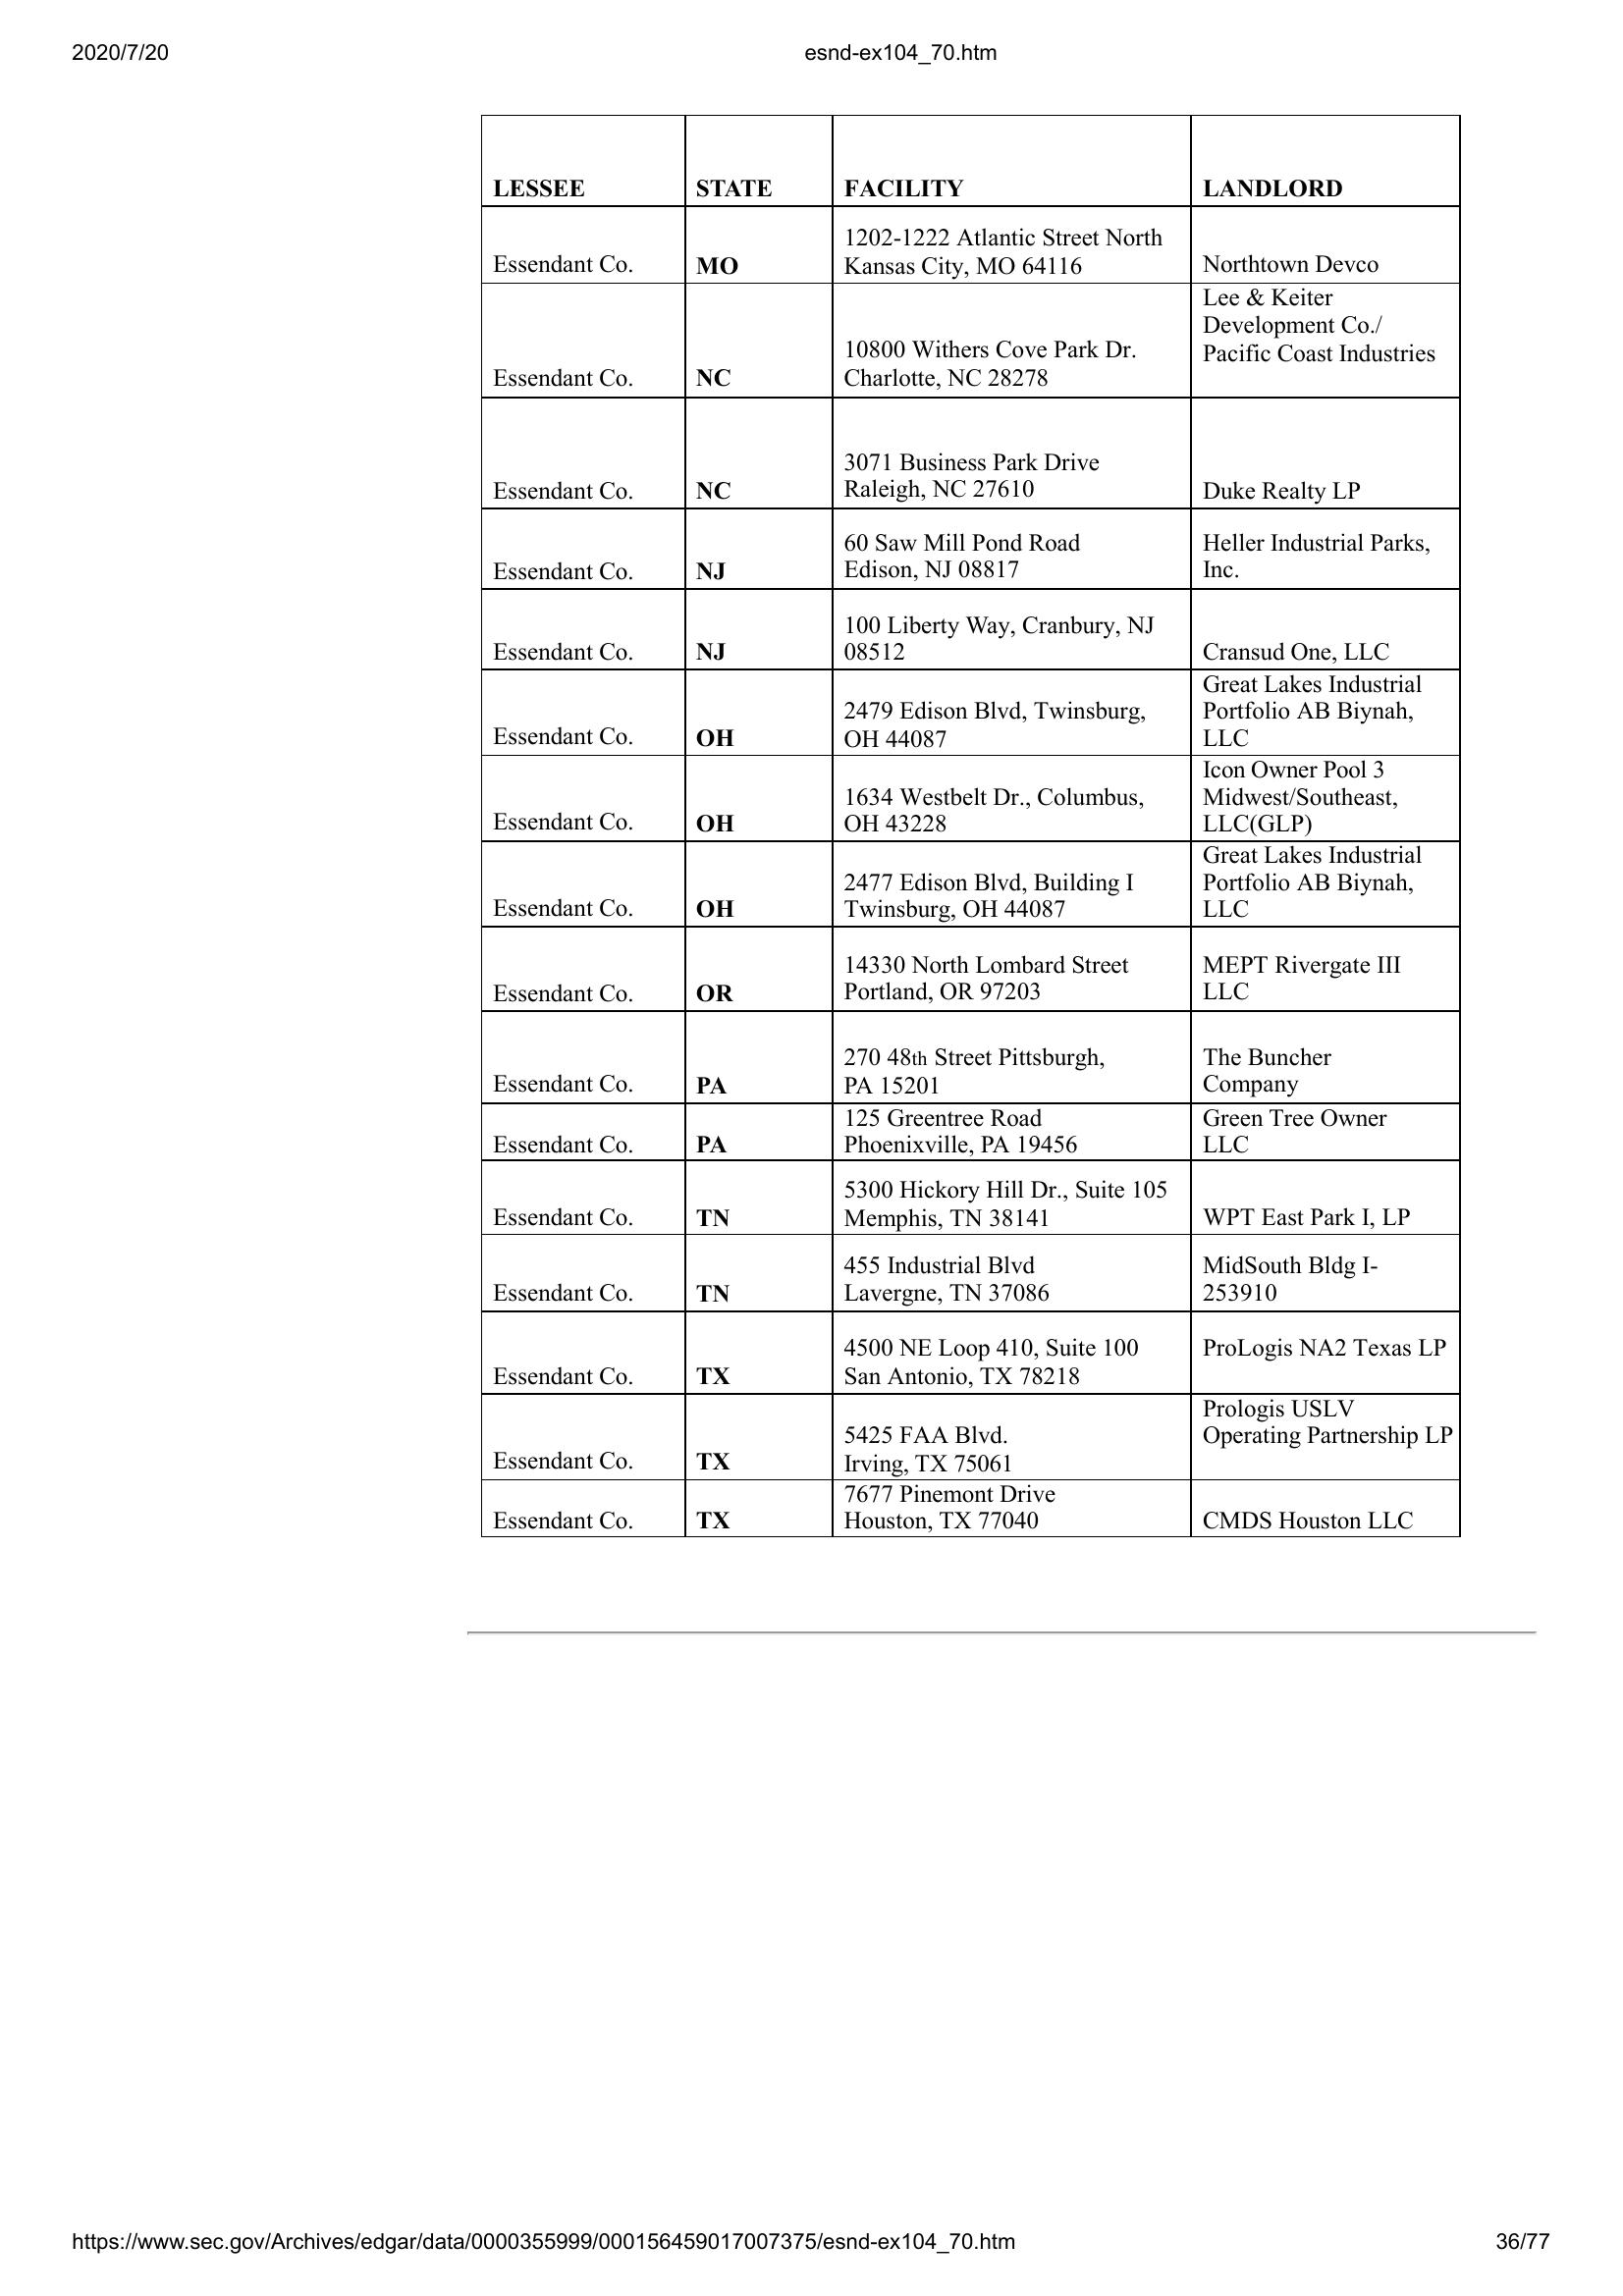table: (478, 109, 1465, 1539)
